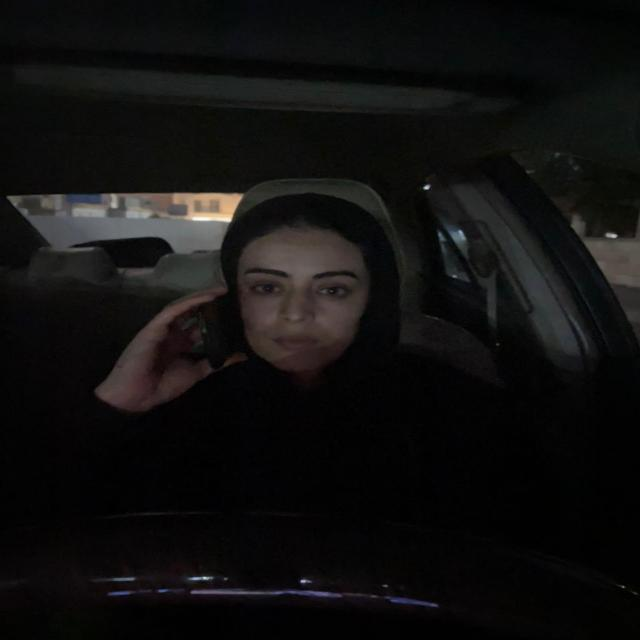mobile: (164, 308, 247, 358)
person: (239, 204, 372, 362)
